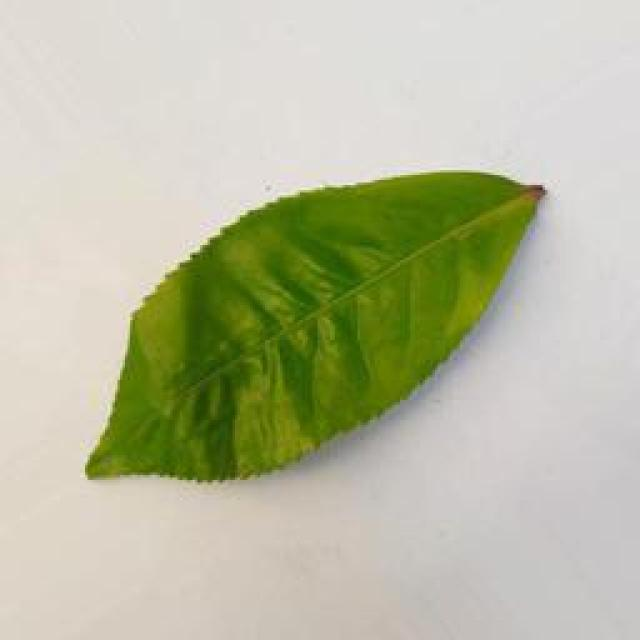Healthy: (91, 164, 556, 490)
